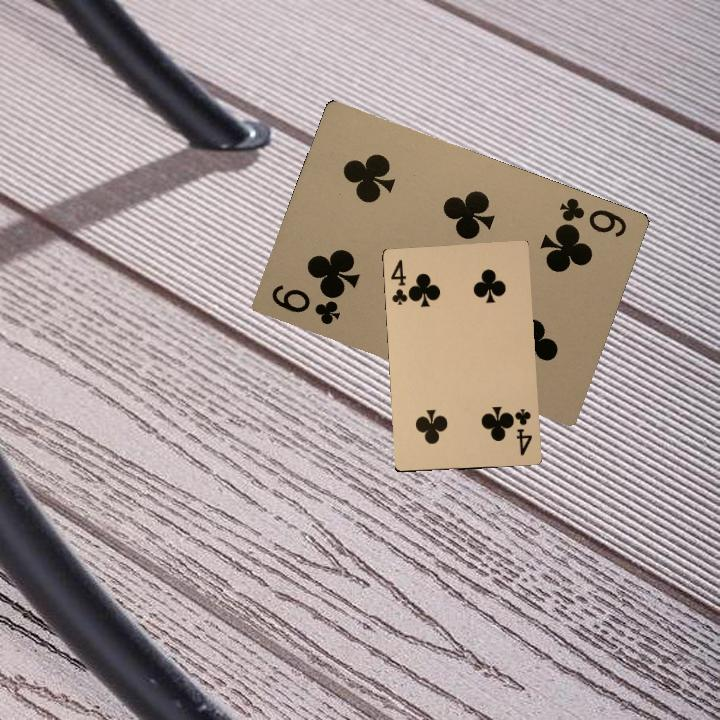4c: (387, 255, 413, 308), (509, 404, 534, 458)
6c: (267, 280, 343, 328), (555, 193, 629, 240)
